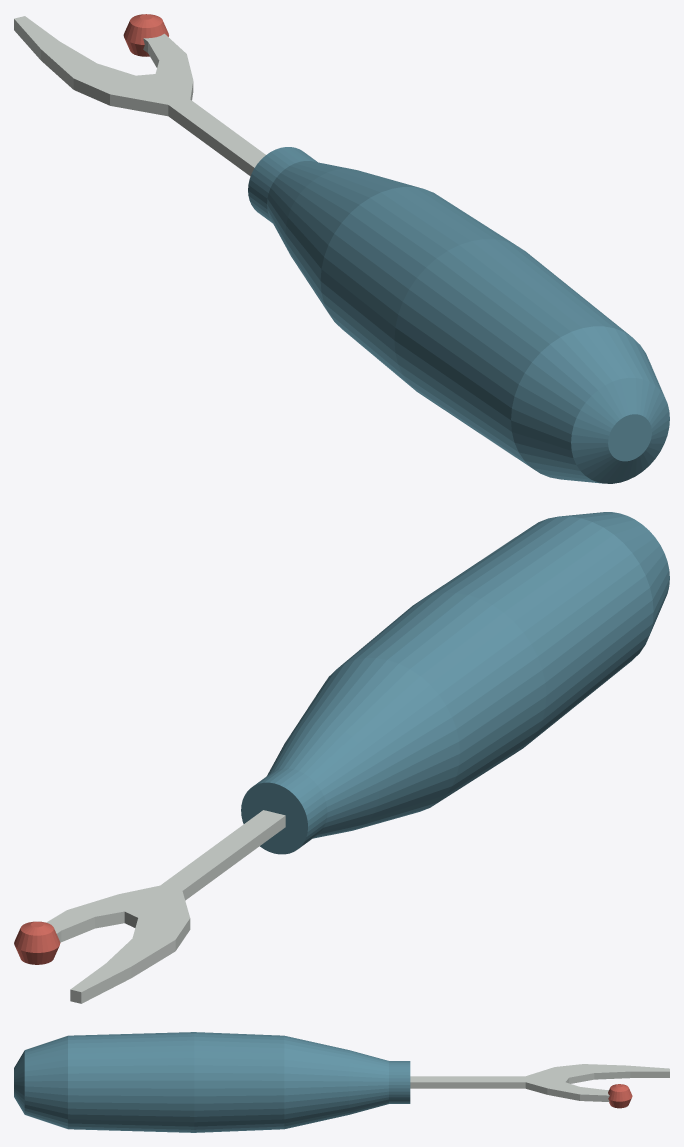
The picture shows the model from 3 angles, top to bottom: view 1: azimuth 30°, elevation 25°; view 2: azimuth 150°, elevation 25°; view 3: azimuth 270°, elevation 25°; orthographic projection. The views are drawn at different scales.
Parts seen in each view (by area): view 1: WholeRoundedGripAndNarrowNeck, WholeIntegralShaftAndUnequalOpenFork, WholeRoundedShortTipGuard; view 2: WholeRoundedGripAndNarrowNeck, WholeIntegralShaftAndUnequalOpenFork, WholeRoundedShortTipGuard; view 3: WholeRoundedGripAndNarrowNeck, WholeIntegralShaftAndUnequalOpenFork, WholeRoundedShortTipGuard.
Part boxes in pixels (<box>): WholeRoundedGripAndNarrowNeck: <box>248,147,669,483</box>; WholeIntegralShaftAndUnequalOpenFork: <box>14,16,265,176</box>; WholeRoundedShortTipGuard: <box>123,14,168,56</box>; WholeRoundedGripAndNarrowNeck: <box>241,512,669,854</box>; WholeIntegralShaftAndUnequalOpenFork: <box>46,810,285,1003</box>; WholeRoundedShortTipGuard: <box>14,921,60,964</box>; WholeRoundedGripAndNarrowNeck: <box>14,1032,410,1132</box>; WholeIntegralShaftAndUnequalOpenFork: <box>410,1064,669,1101</box>; WholeRoundedShortTipGuard: <box>608,1084,632,1108</box>.
Bounding box in the file's own units: 0.028 × 0.028 × 0.182.
